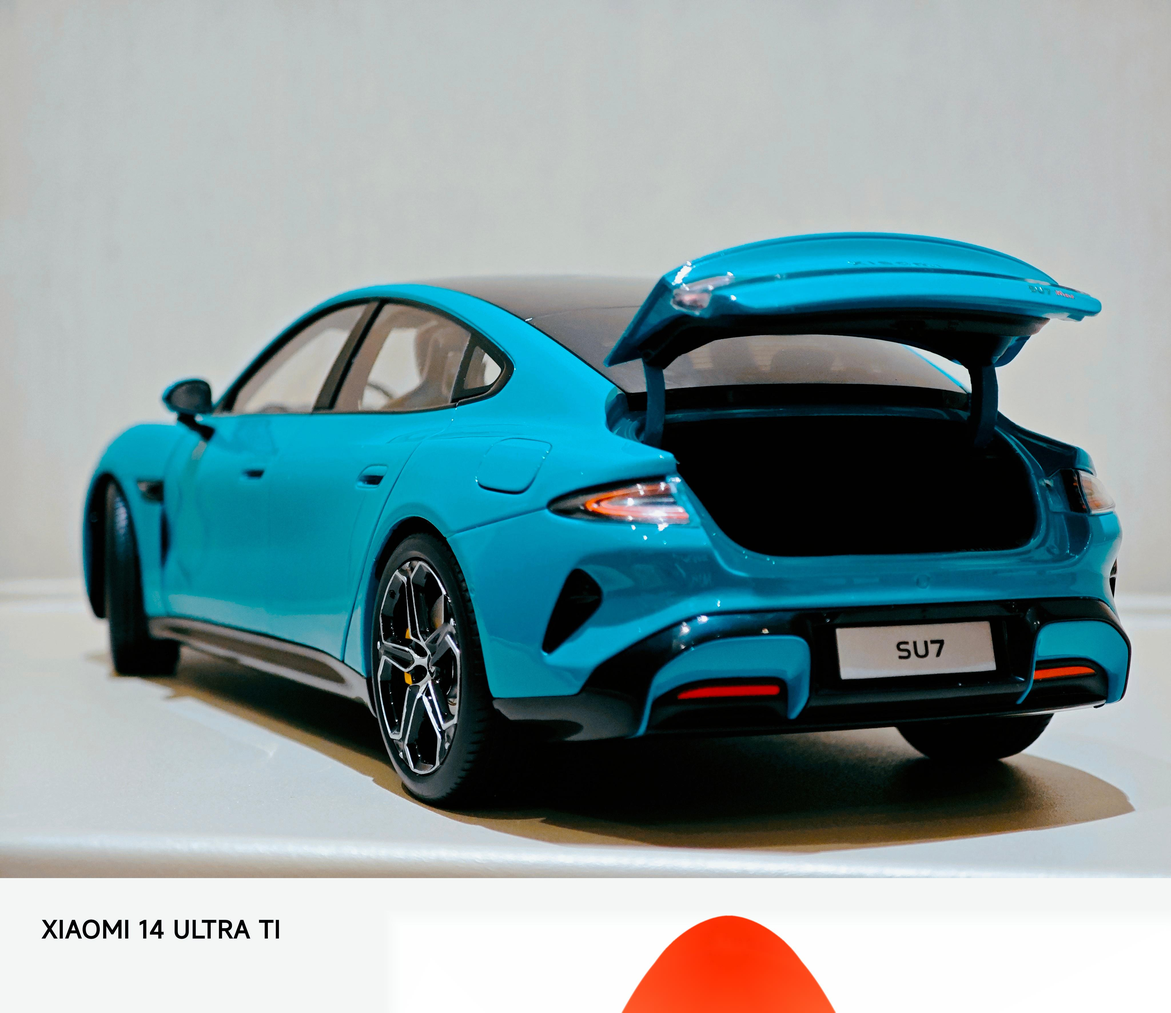su7: (87, 268, 1135, 802)
